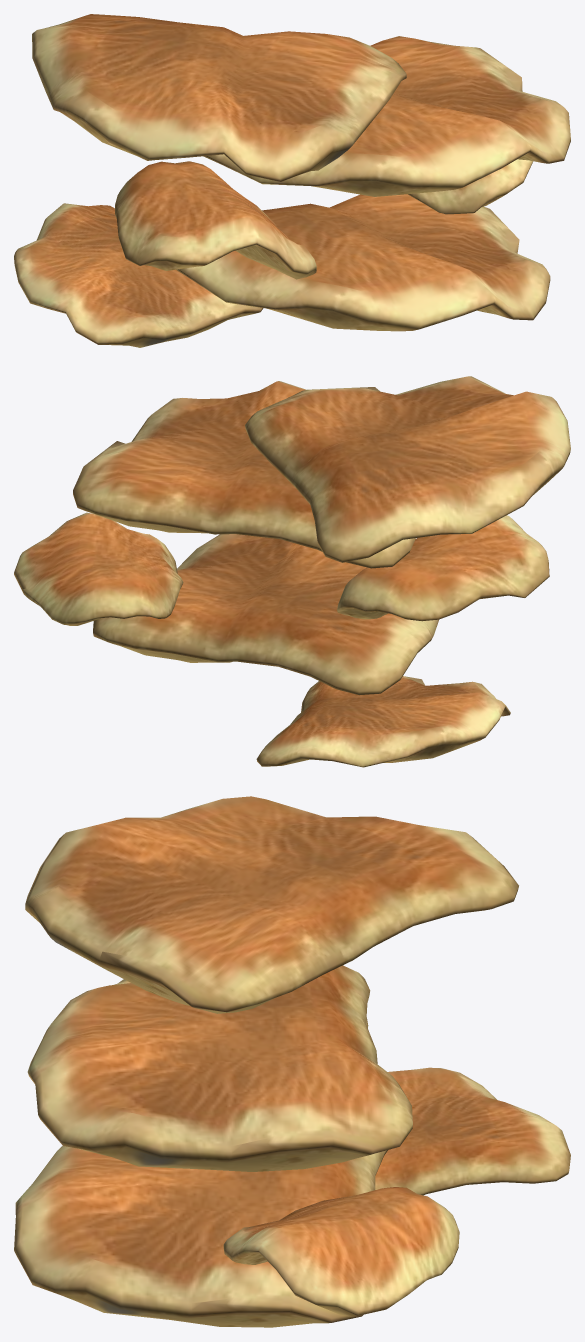
Rendered from Mushroom_Laetiporus.glb.
3 views of the same model, one above another, from view 1: azimuth 30°, elevation 25°; view 2: azimuth 150°, elevation 25°; view 3: azimuth 270°, elevation 25° (orthographic). The views are drawn at different scales.
Visible parts, largest first — view 1: Mushroom_Laetiporus; view 2: Mushroom_Laetiporus; view 3: Mushroom_Laetiporus.
Part boxes in pixels (x1,y1,x2,y2): Mushroom_Laetiporus: (14,14,570,347); Mushroom_Laetiporus: (14,376,570,767); Mushroom_Laetiporus: (14,796,570,1327).
Size of the model in its own units: 1.37 by 0.767 by 1.1.
1 material, 1 textured.
